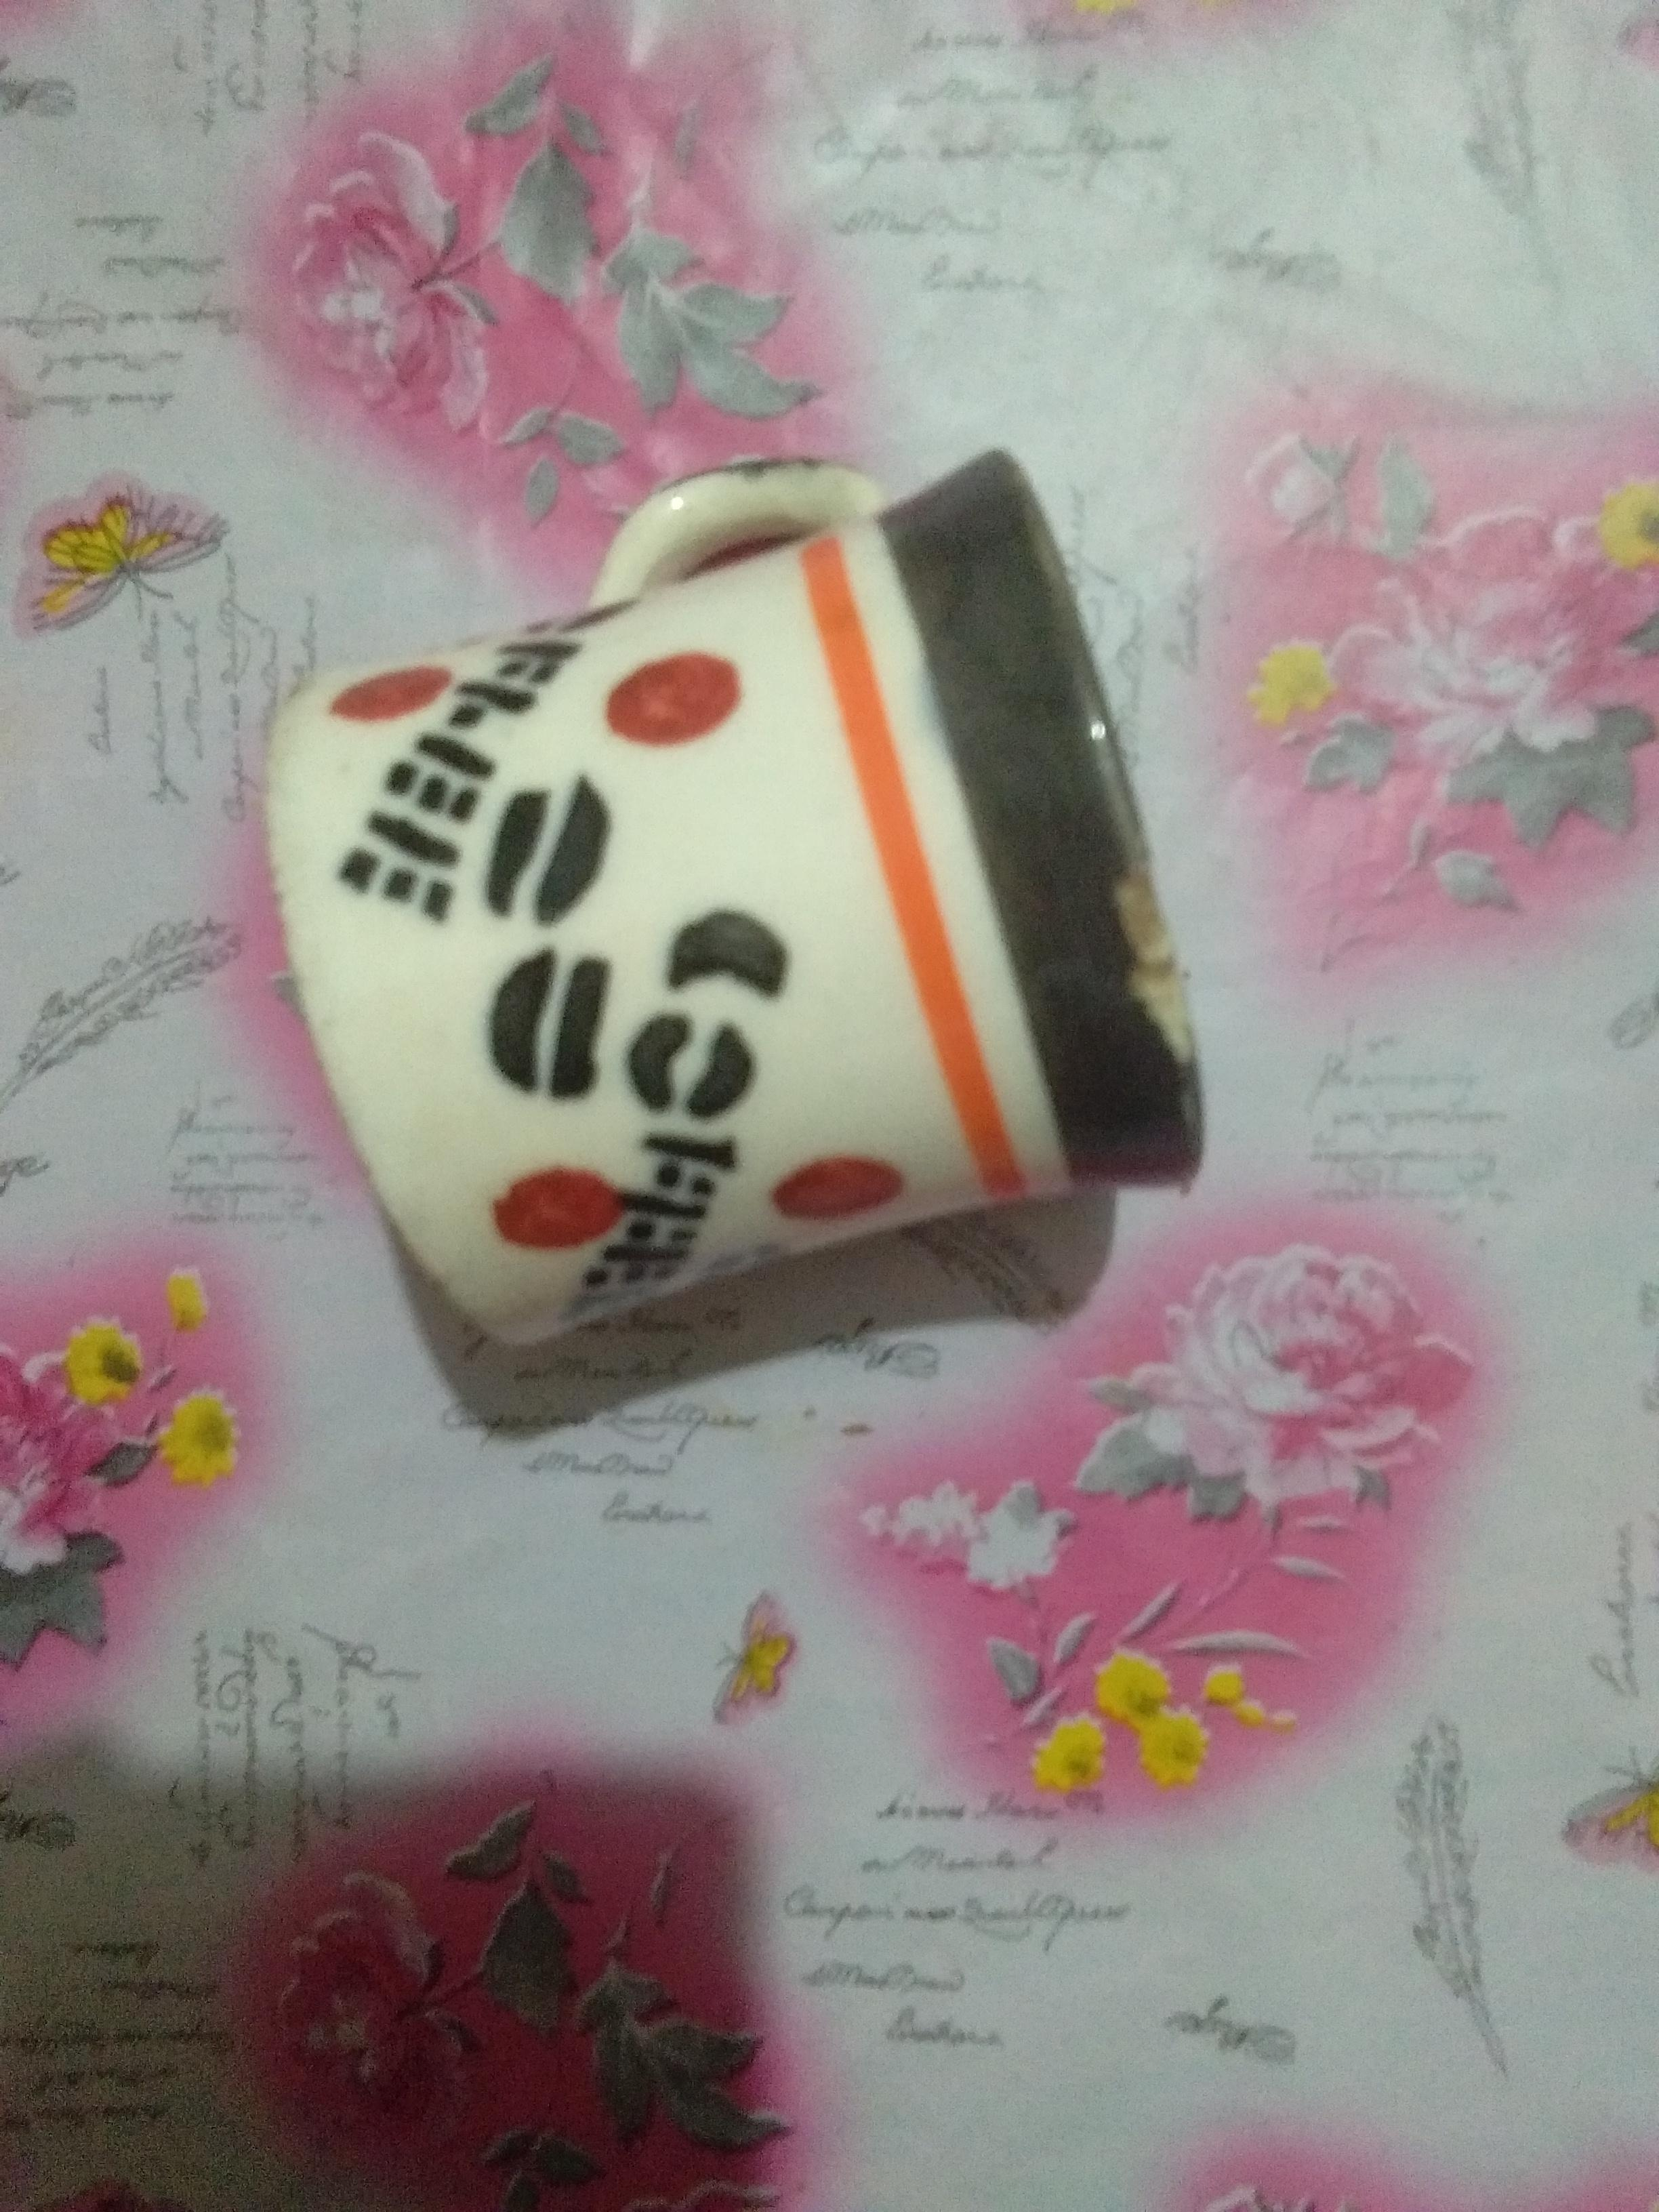organic: (253, 441, 1208, 1371)
